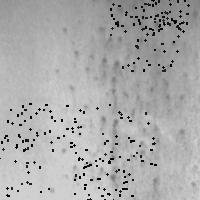pitted_surface: (62, 21, 177, 188), (122, 11, 182, 70), (95, 104, 154, 164), (27, 103, 85, 158), (84, 158, 143, 200), (74, 158, 132, 200), (0, 105, 36, 163), (107, 0, 167, 34), (0, 161, 49, 200), (139, 0, 196, 28), (139, 0, 195, 28)
